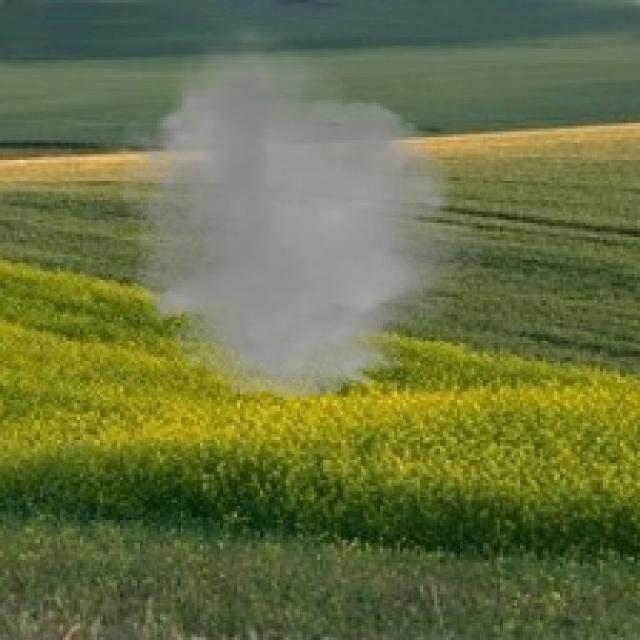smoke: (103, 26, 500, 408)
